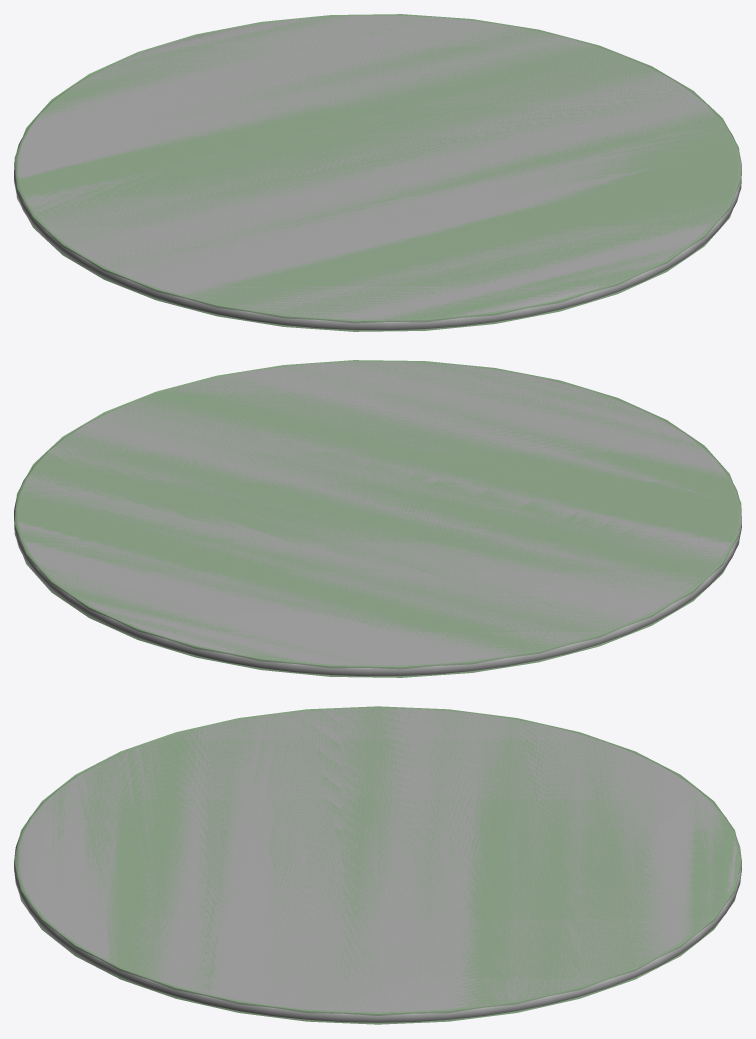
The model's file is LightStage_01_Mesh.fbx.
3 views of the same model, one above another, from view 1: azimuth 30°, elevation 25°; view 2: azimuth 150°, elevation 25°; view 3: azimuth 270°, elevation 25° (orthographic).
Visible parts, largest first — view 1: AngularLight_Stage_01_LOD0, AngularLight_Stage_01_Col; view 2: AngularLight_Stage_01_LOD0, AngularLight_Stage_01_Col; view 3: AngularLight_Stage_01_LOD0, AngularLight_Stage_01_Col.
Part boxes in pixels (<box>): AngularLight_Stage_01_LOD0: <box>14,15,741,330</box>; AngularLight_Stage_01_Col: <box>14,14,741,331</box>; AngularLight_Stage_01_LOD0: <box>14,361,741,676</box>; AngularLight_Stage_01_Col: <box>14,360,741,677</box>; AngularLight_Stage_01_LOD0: <box>14,708,741,1022</box>; AngularLight_Stage_01_Col: <box>14,706,741,1024</box>.
Size of what is drawn, in the model's own units: 8.09 by 0.1303 by 8.09.
